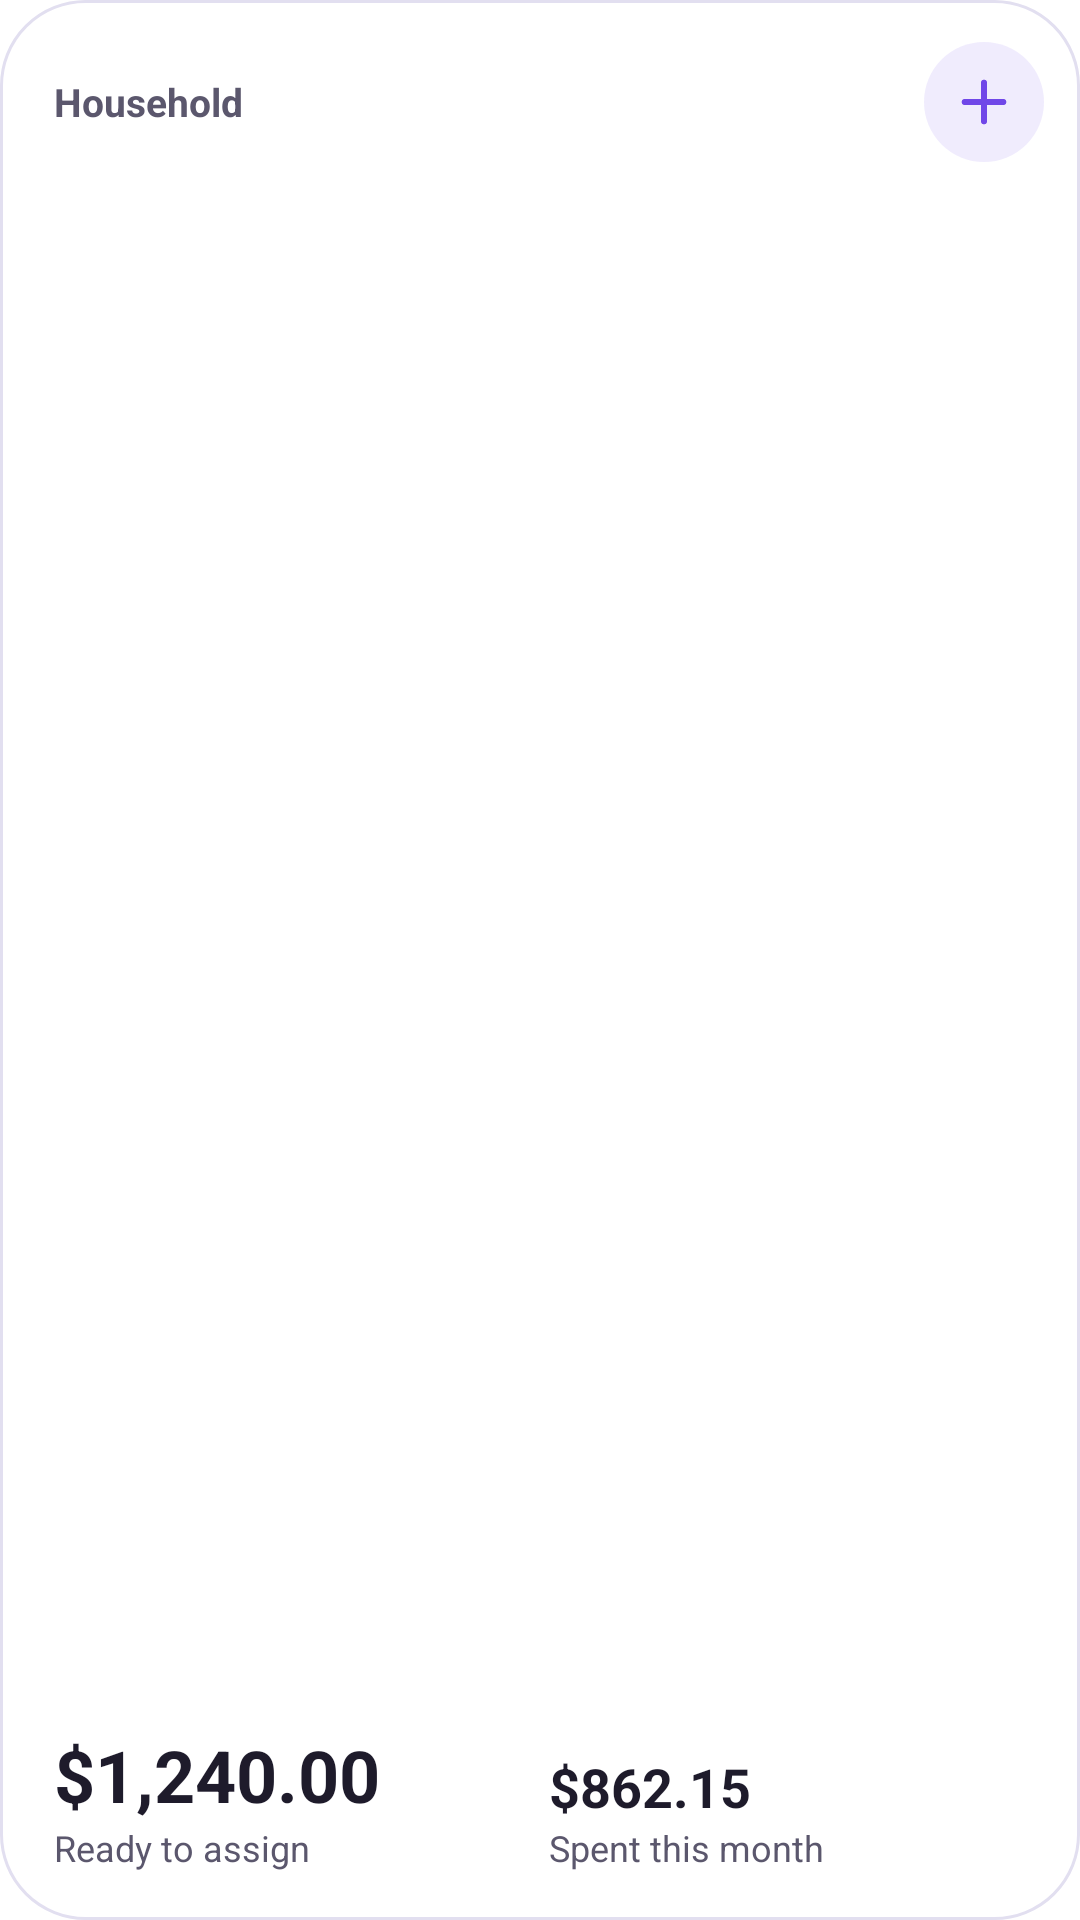

Icons on this 1080 x 1920 Android screen, each with the point to tap as point (x, y):
Add transaction: point (984, 102)
